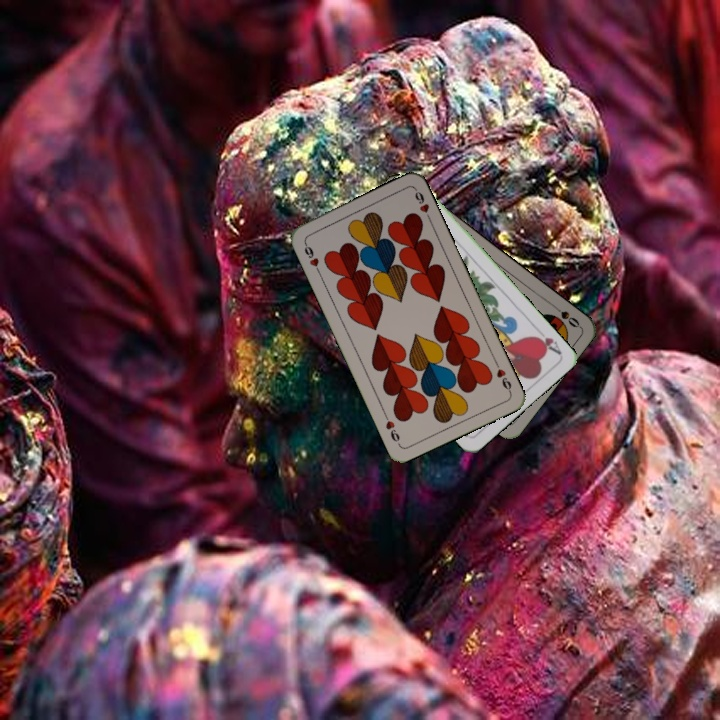H9: (491, 357, 514, 395), (300, 238, 323, 276)
HA: (528, 324, 564, 357)
SO: (548, 300, 582, 330)
